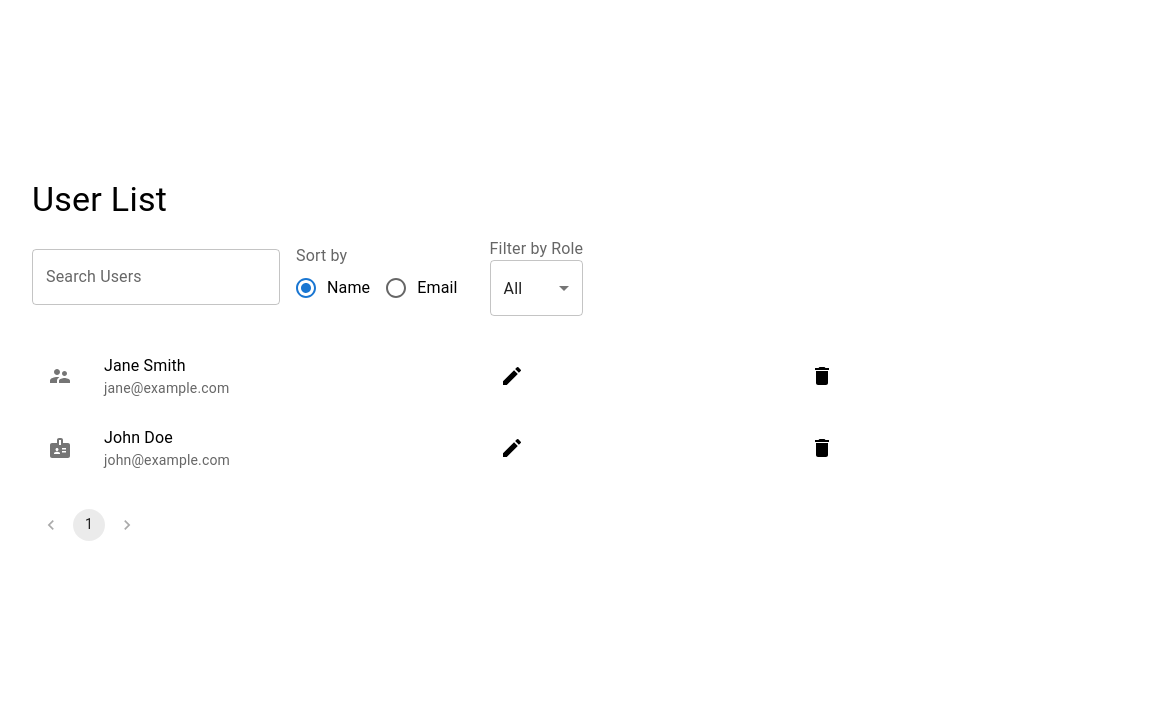
Test case: UserEmployeeListSchwer › shows error message on user deletion failure
Click the button named "delete-John Doe": x=822, y=448 x1=810 y1=436 x2=834 y2=460
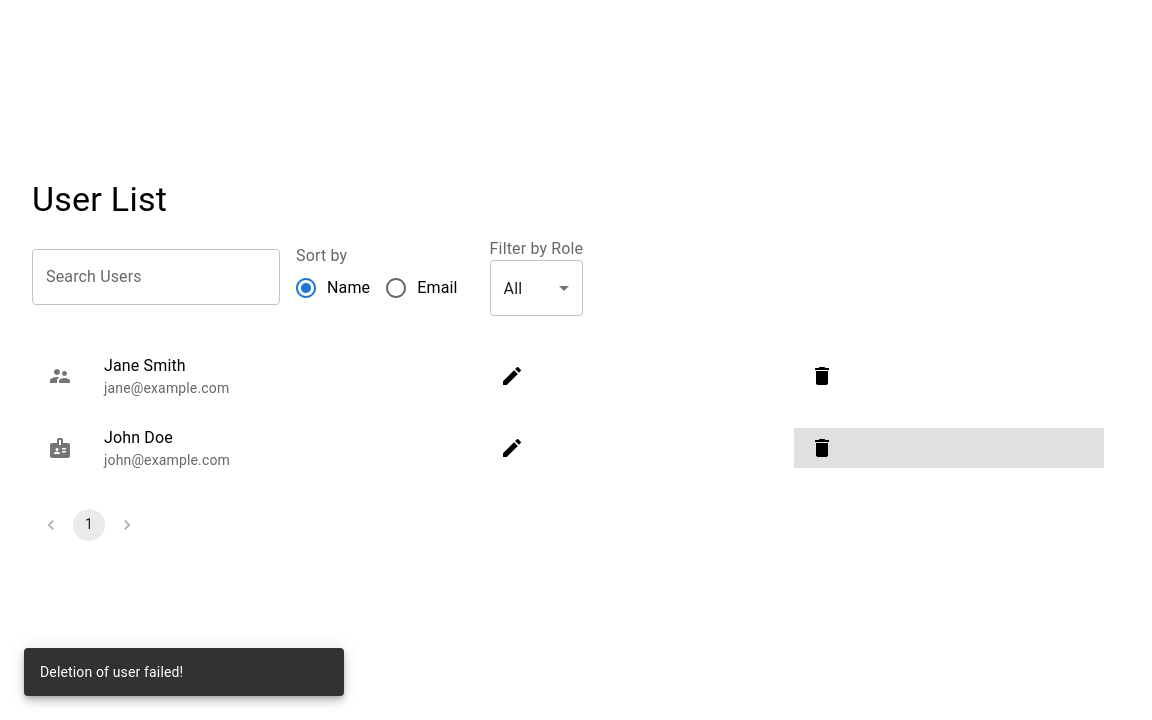
Result: the text "Deletion of user failed!" is shown at x1=40 y1=664 x2=183 y2=680
